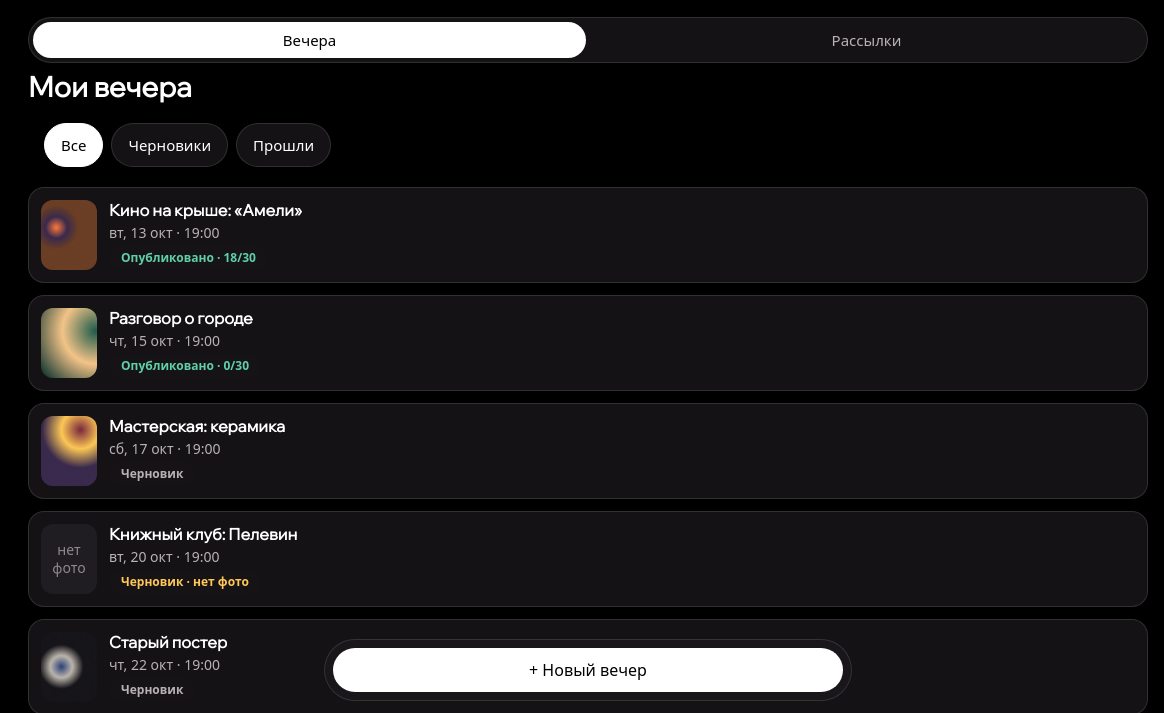
Test: OwnerEvents › starts a new evening from the bottom bar
The image size is (1164, 713).
Click the button "+ Новый вечер": point(588, 670) x1=333 y1=648 x2=843 y2=692
(page scrolled)
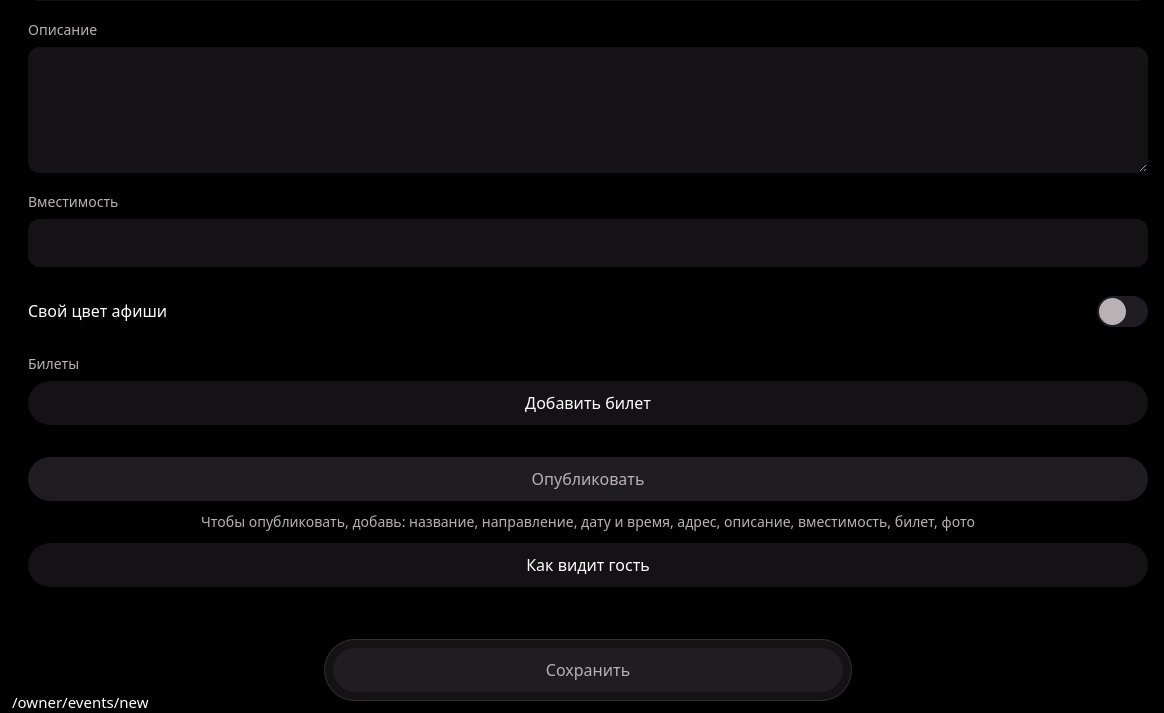
Now the text with test id "where" reads "/owner/events/new", box x1=12 y1=692 x2=149 y2=712
